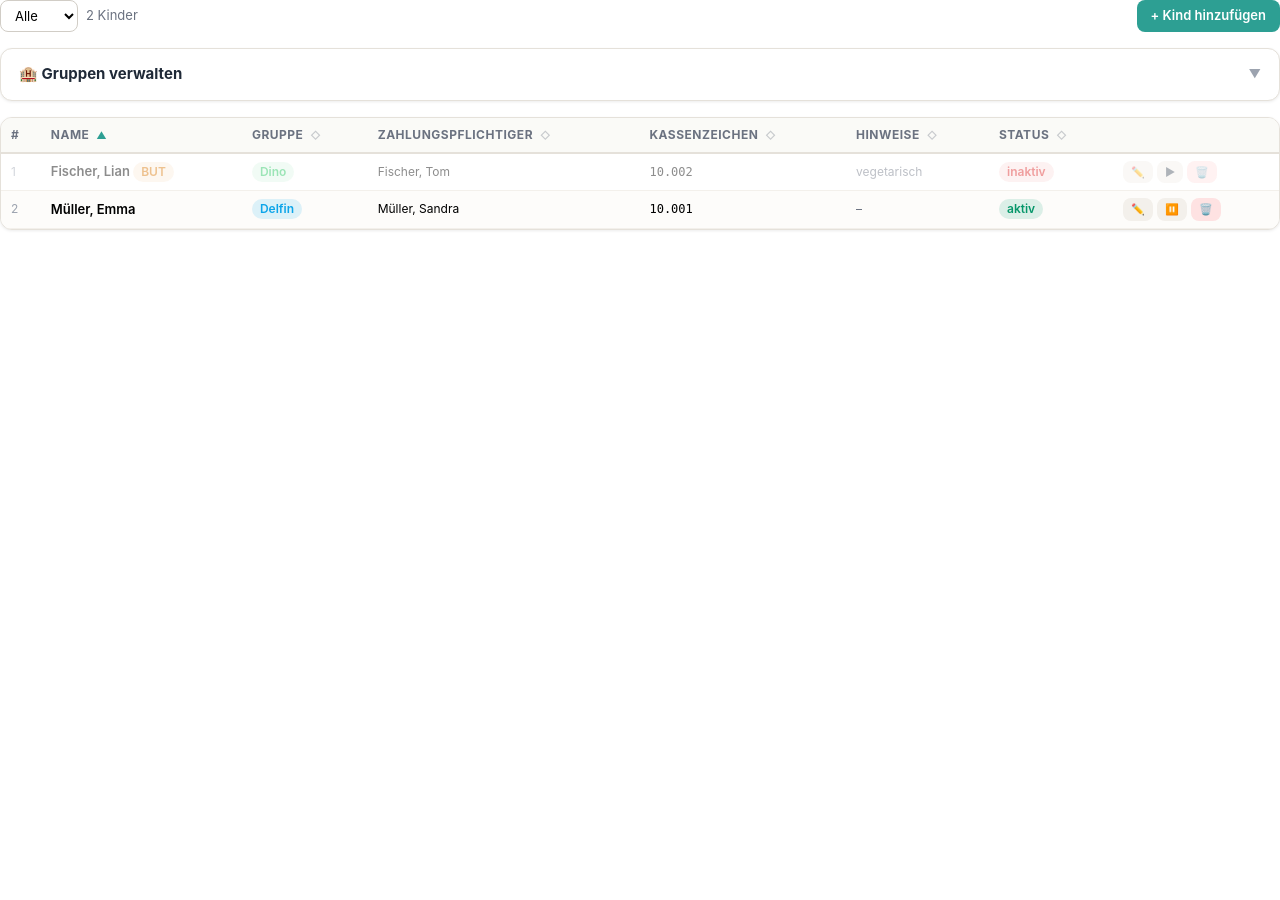
Test: Stammdaten › Ungespeicherte Änderungen beim Wechsel › shows dialog when switching with unsaved changes
This screenshot has width=1280, height=900.
Click the button "✏️" in the row of "Fischer, Lian" at (1138, 172), box [1123, 160, 1153, 183]
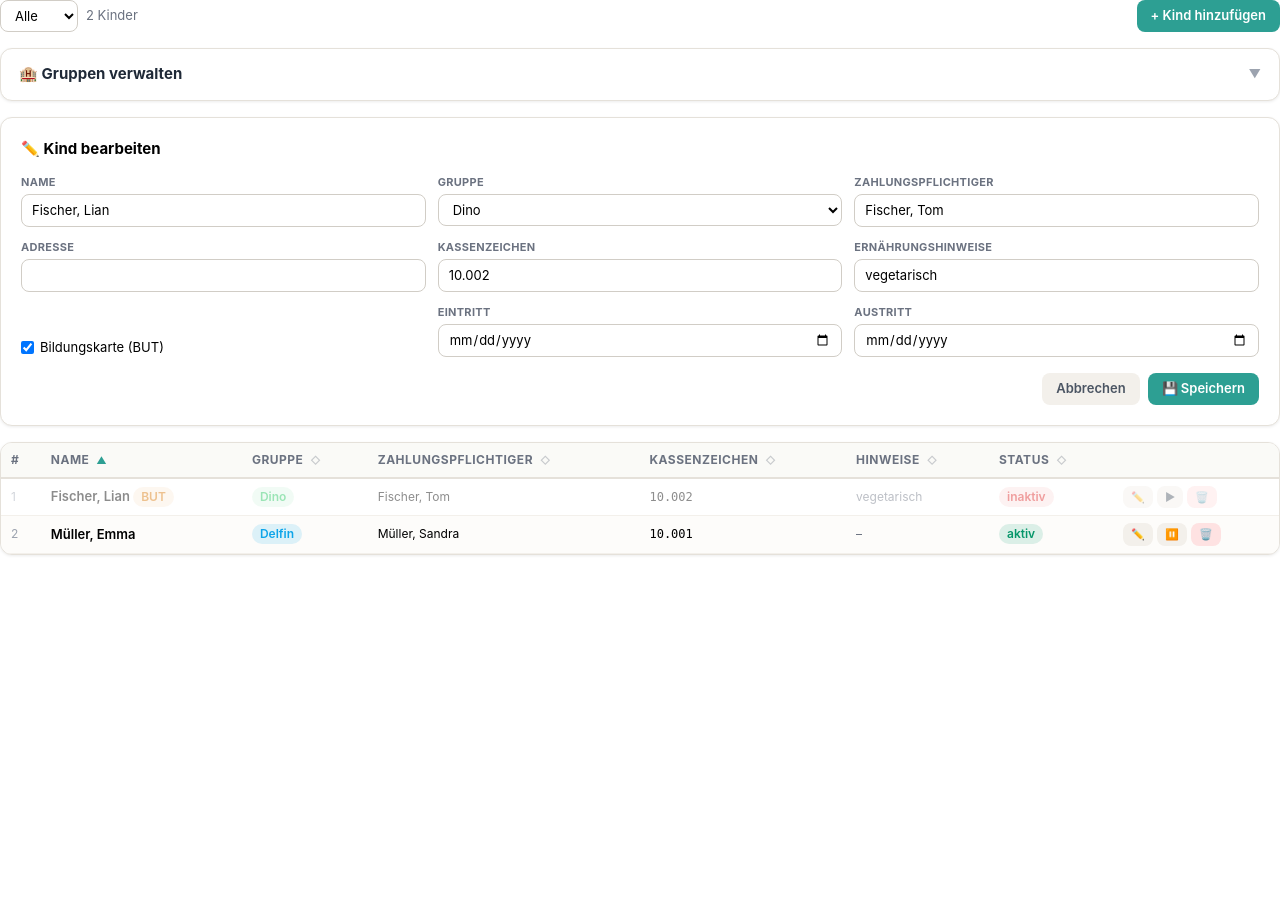
Replace the text in the 1st field with placeholder "Nachname, Vorname" with "Geändert" at (223, 210), box [21, 194, 426, 227]
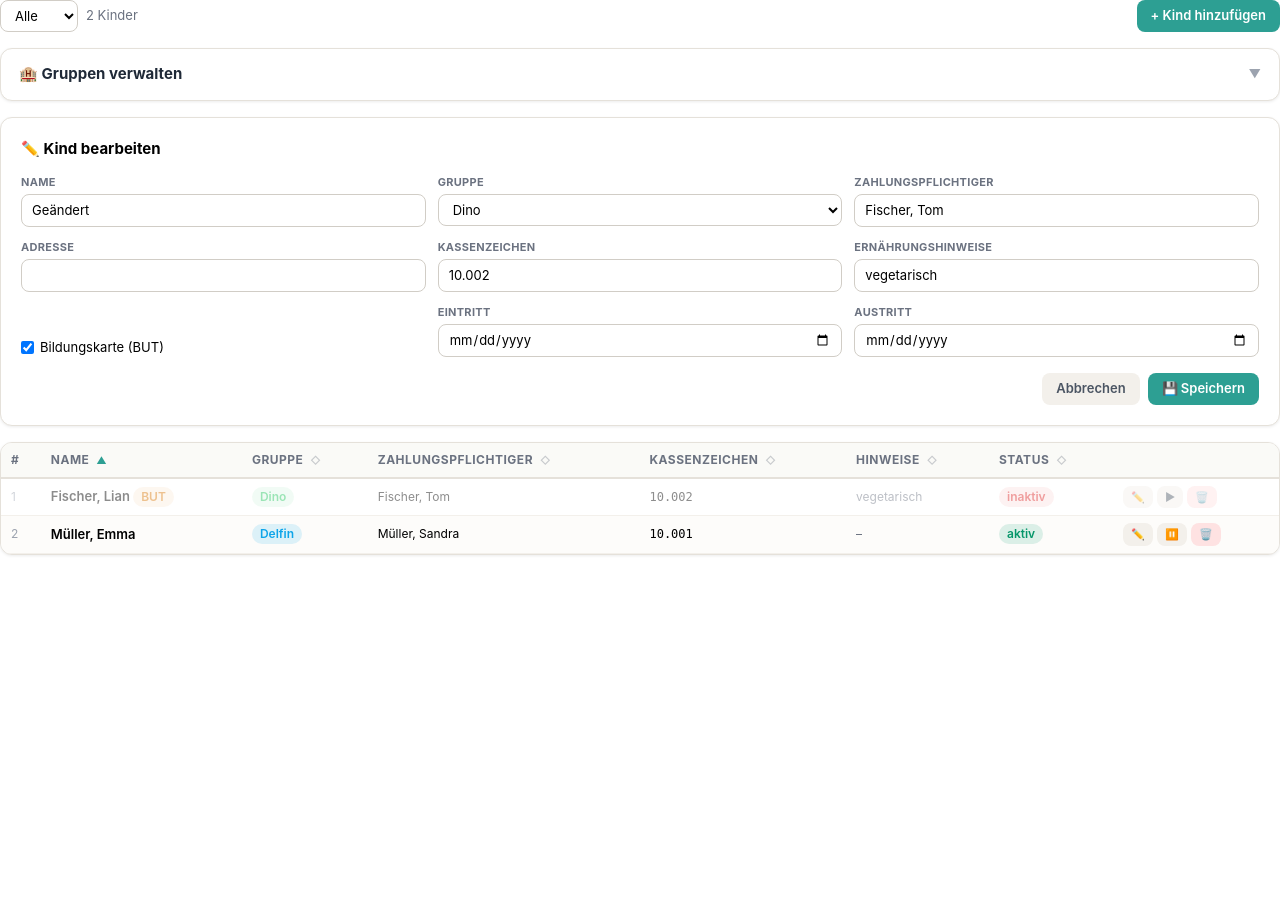
Click the button "✏️" in the row of "Müller, Emma" at (1138, 534), box [1123, 523, 1153, 546]
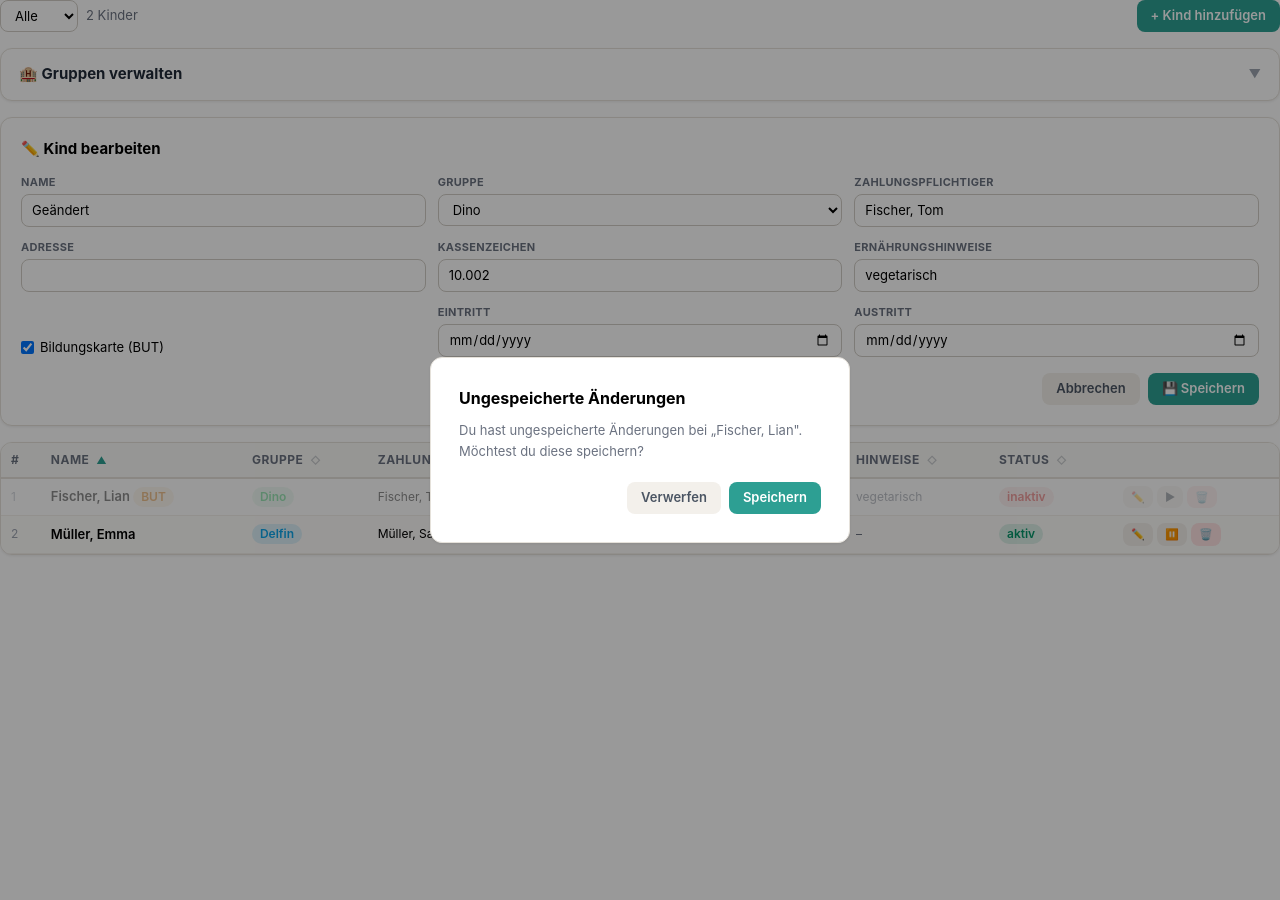
Now the text "Ungespeicherte Änderungen" is shown, box [459, 388, 686, 408]
Now the text "ungespeicherte Änderungen bei" is shown, box [459, 422, 802, 459]
